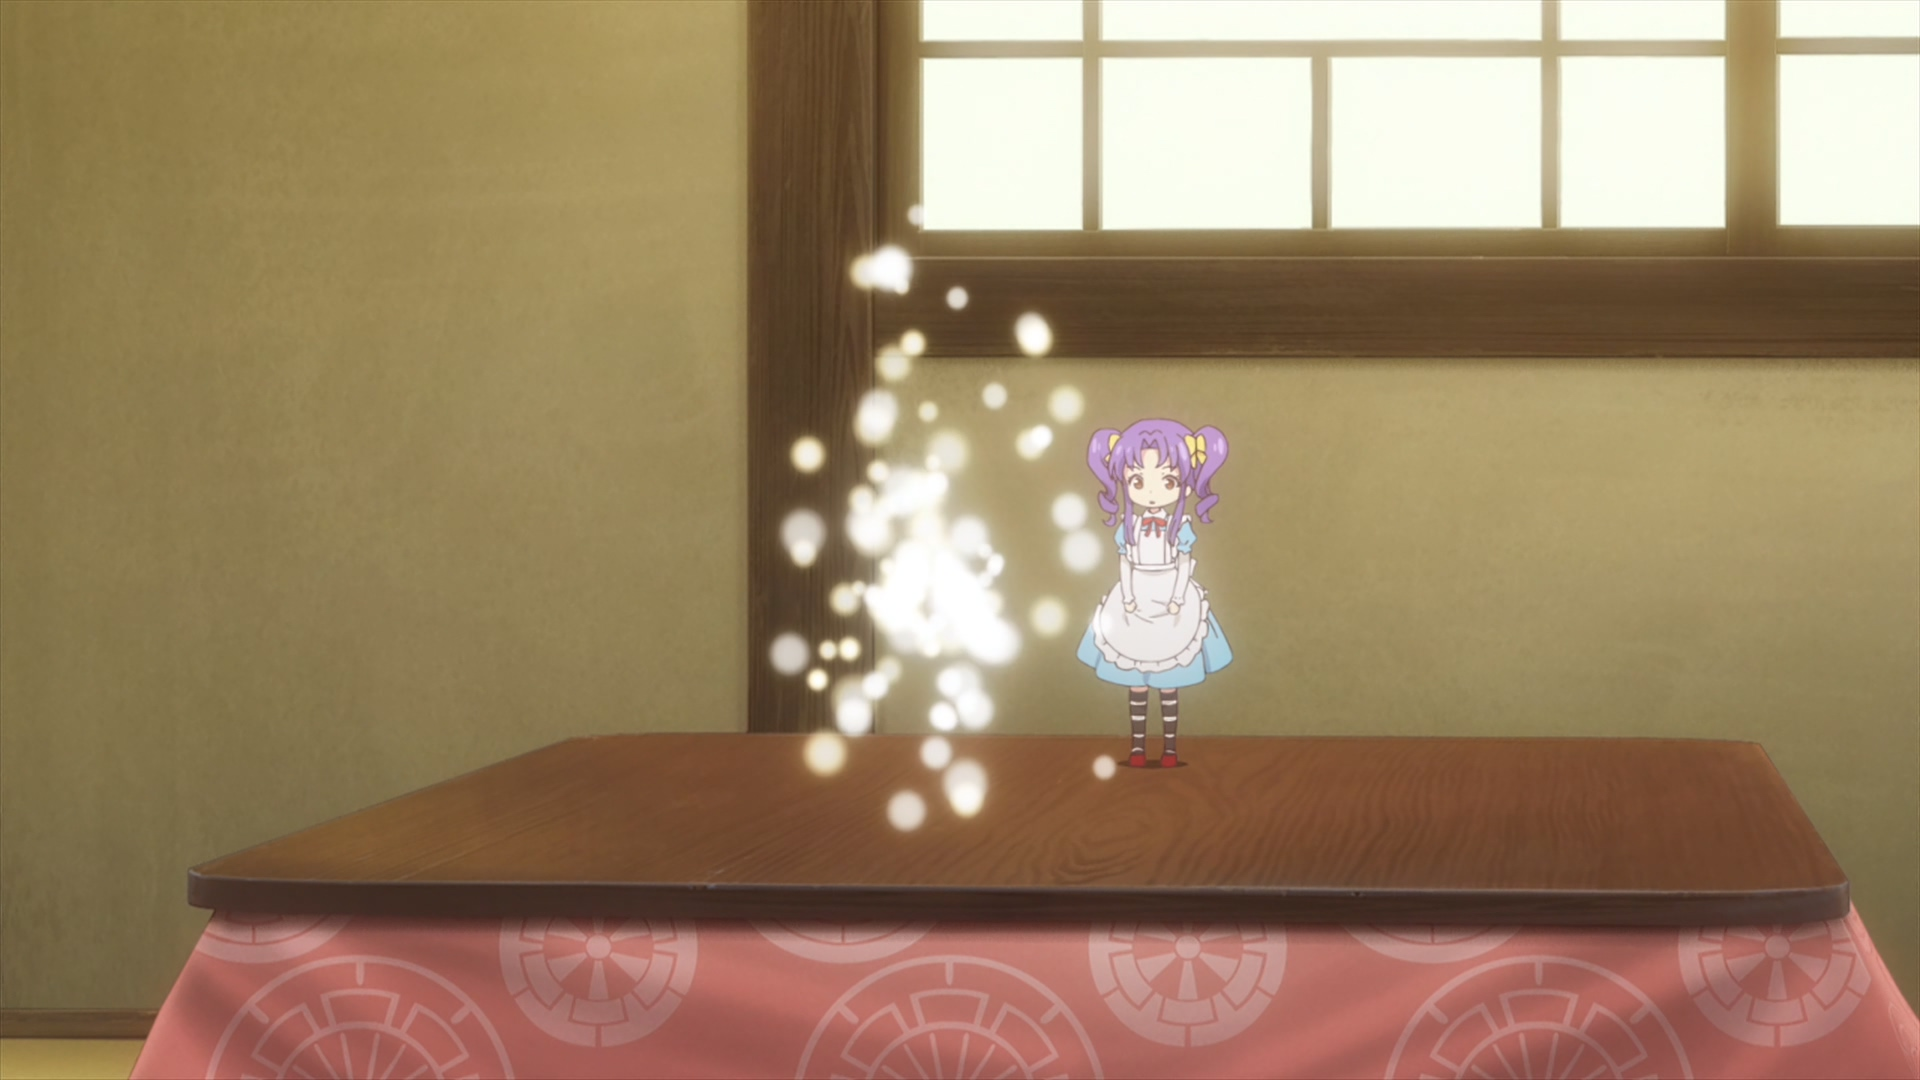阿菊: (1076, 419, 1233, 769)
